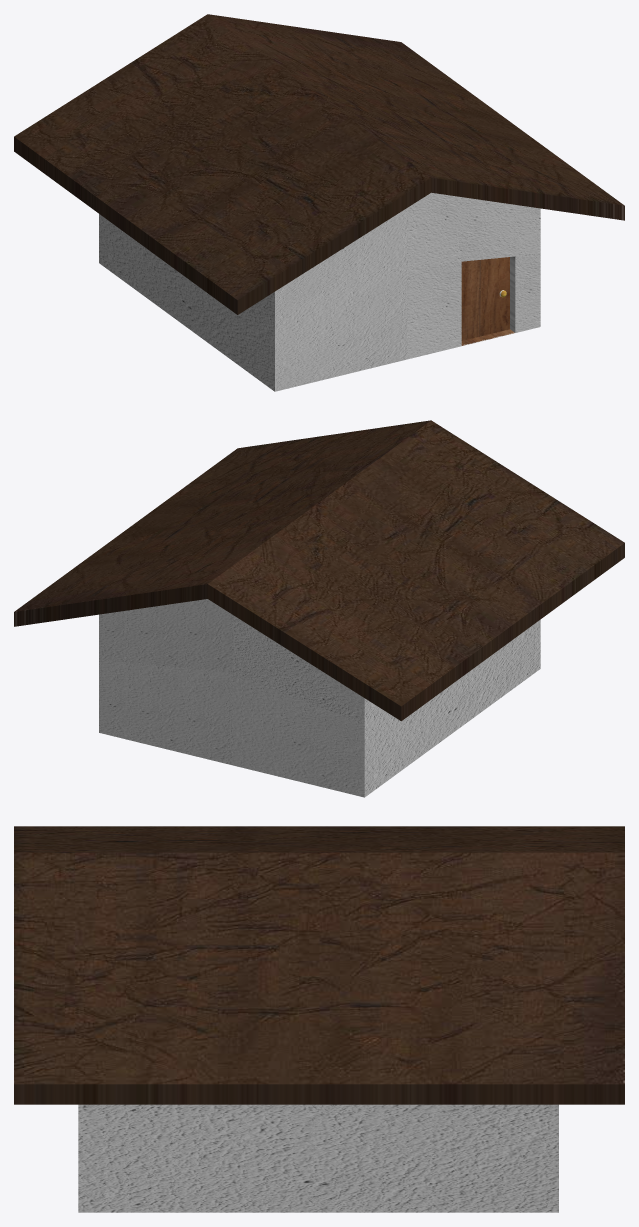
Rendered from casa2.fbx.
3 renders of one model, top to bottom at view 1: azimuth 30°, elevation 25°; view 2: azimuth 150°, elevation 25°; view 3: azimuth 270°, elevation 25°, orthographic. The views are drawn at different scales.
Visible parts, largest first — view 1: Techo, Casa; view 2: Techo, Casa; view 3: Techo, Casa.
Boxes of the visible parts, box(x1,y1,x2,y2) form: Techo: box(14, 14, 624, 314); Casa: box(99, 192, 540, 391); Techo: box(14, 420, 624, 721); Casa: box(99, 599, 540, 797); Techo: box(14, 826, 624, 1104); Casa: box(78, 1104, 558, 1212).
Bounding box in the file's own units: 526 × 258 × 526.
4 materials, 4 textured.
